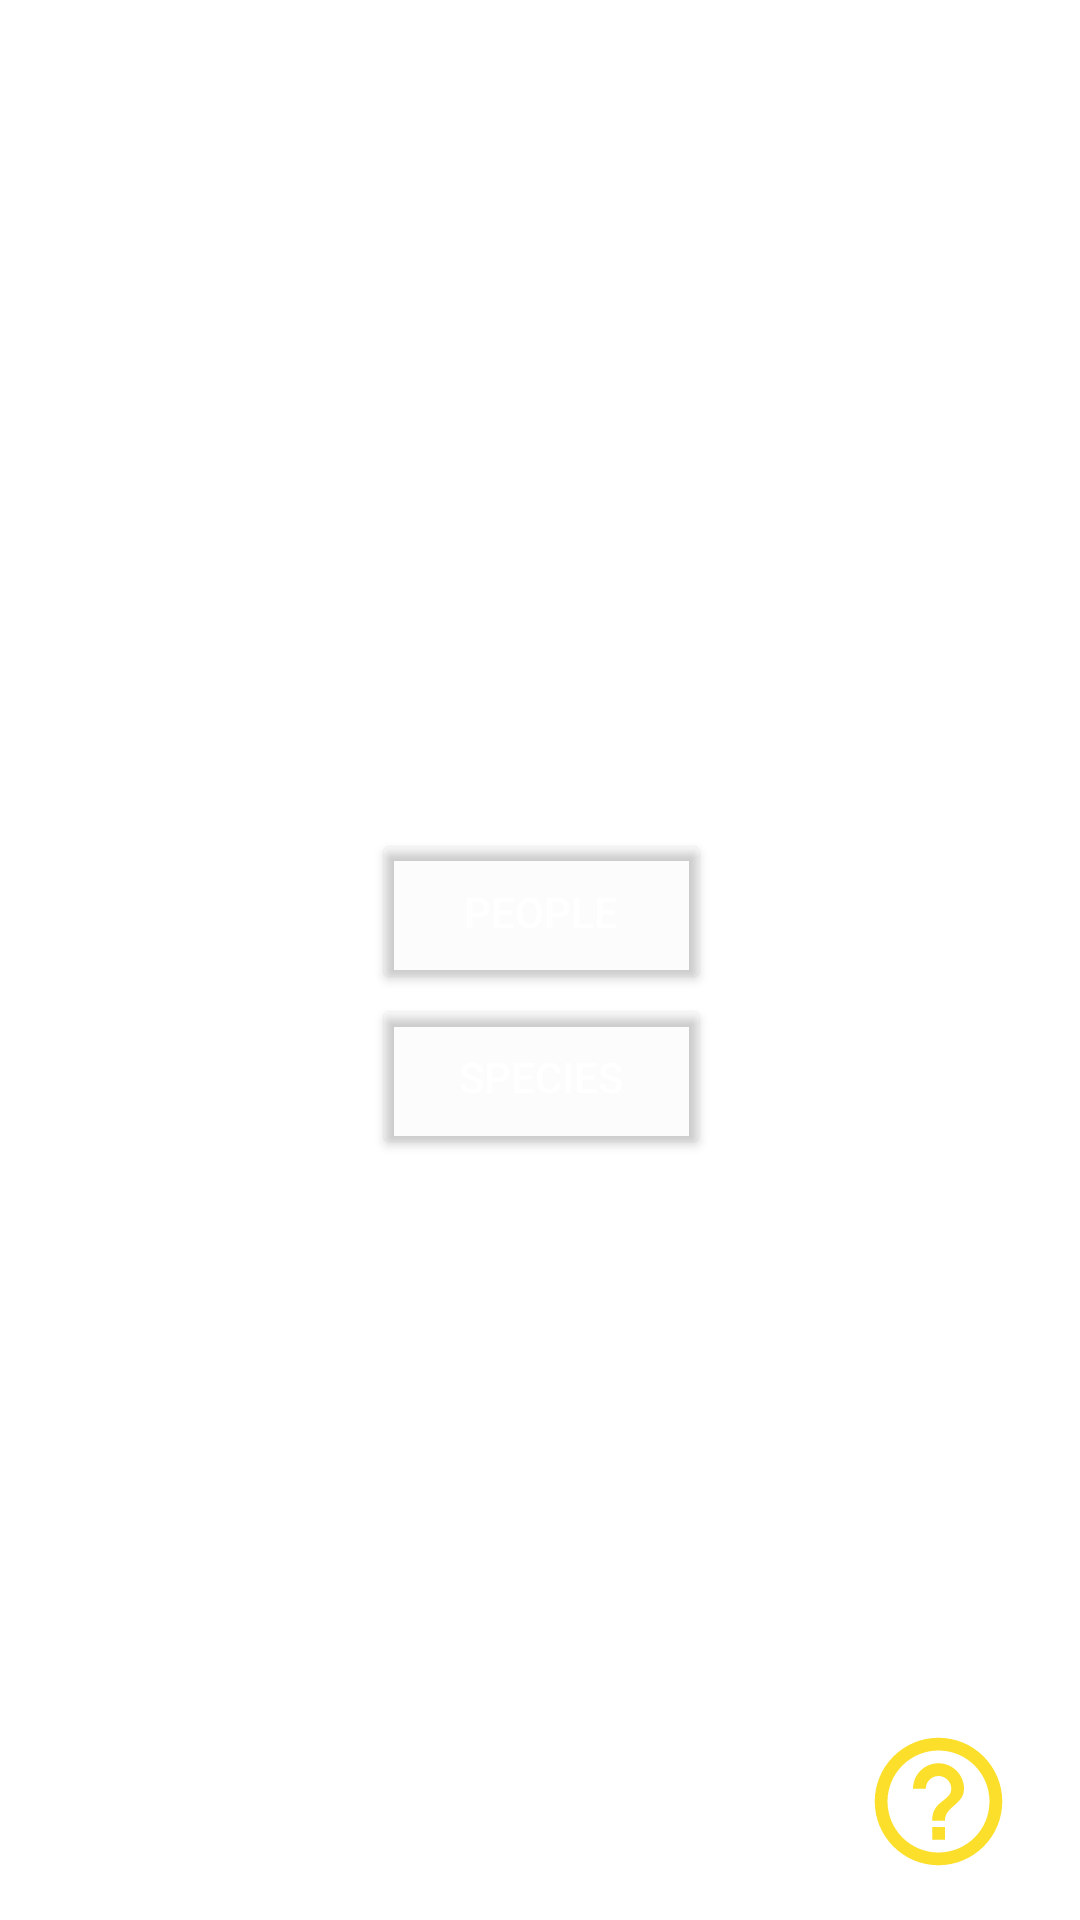

Icons on this 1080*1920 Android screen, each with its box as (x1, y1, x2, y2):
Help Button: (874, 1737, 1003, 1866)
